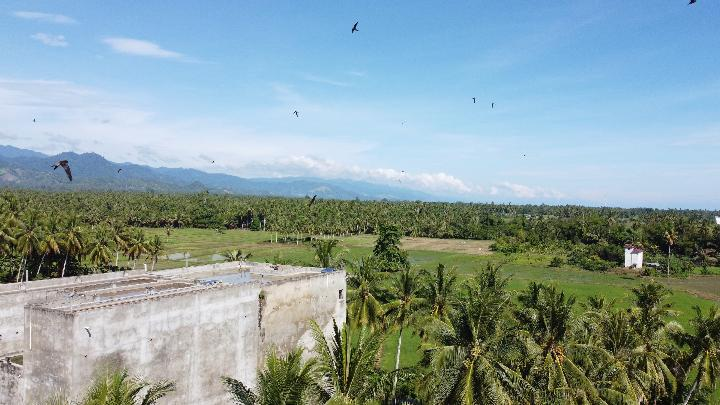walet: (352, 22, 358, 34), (491, 102, 497, 110), (472, 98, 476, 102), (294, 112, 298, 116), (32, 118, 36, 122)
